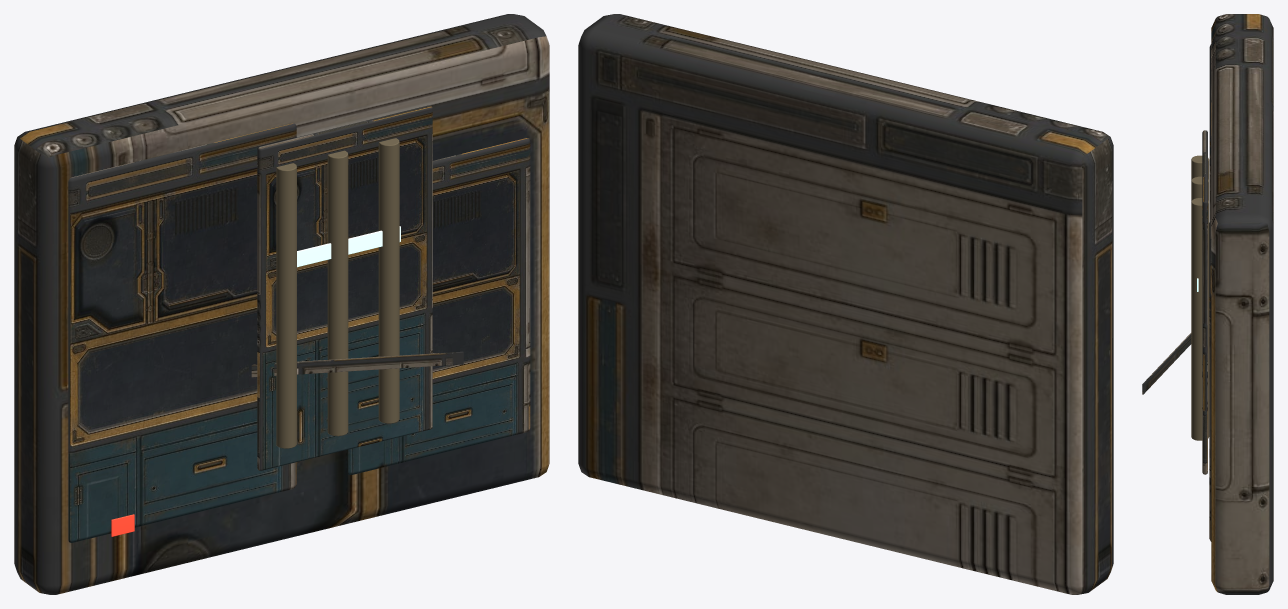
File: hp_room_residential_service_wall_rupture.glb
3 renders of one model, left to right at view 1: azimuth 30°, elevation 25°; view 2: azimuth 150°, elevation 25°; view 3: azimuth 270°, elevation 25°, orthographic. The views are drawn at different scales.
Parts seen in each view (by area): view 1: rupture_dark_backing, left_residential_skin_plate, exposed_service_cavity, right_residential_skin_plate, vertical_exposed_pipe_0, vertical_exposed_pipe_2, vertical_exposed_pipe_1, peeled_wall_diagonal_shadow, cold_cyan_crack_light; view 2: rupture_dark_backing; view 3: rupture_dark_backing, vertical_exposed_pipe_2, exposed_service_cavity, right_residential_skin_plate, peeled_wall_diagonal_shadow, left_residential_skin_plate, vertical_exposed_pipe_0, vertical_exposed_pipe_1.
Boxes of the visible parts, x1=… form: rupture_dark_backing: x1=14, y1=14, x2=549, y2=594; left_residential_skin_plate: x1=68, y1=123, x2=296, y2=542; exposed_service_cavity: x1=257, y1=105, x2=432, y2=470; right_residential_skin_plate: x1=347, y1=138, x2=530, y2=474; vertical_exposed_pipe_0: x1=276, y1=163, x2=296, y2=448; vertical_exposed_pipe_2: x1=378, y1=138, x2=399, y2=423; vertical_exposed_pipe_1: x1=327, y1=150, x2=348, y2=436; peeled_wall_diagonal_shadow: x1=251, y1=351, x2=463, y2=377; cold_cyan_crack_light: x1=297, y1=226, x2=400, y2=267; rupture_dark_backing: x1=578, y1=14, x2=1113, y2=594; rupture_dark_backing: x1=1211, y1=14, x2=1273, y2=594; vertical_exposed_pipe_2: x1=1191, y1=198, x2=1209, y2=440; exposed_service_cavity: x1=1202, y1=130, x2=1207, y2=474; right_residential_skin_plate: x1=1209, y1=220, x2=1211, y2=541; peeled_wall_diagonal_shadow: x1=1142, y1=333, x2=1191, y2=394; left_residential_skin_plate: x1=1209, y1=44, x2=1211, y2=221; vertical_exposed_pipe_0: x1=1191, y1=155, x2=1209, y2=180; vertical_exposed_pipe_1: x1=1191, y1=176, x2=1209, y2=201.
Bounding box in the file's own units: 2.62 × 2.19 × 0.6841.
5 materials, 2 textured.
